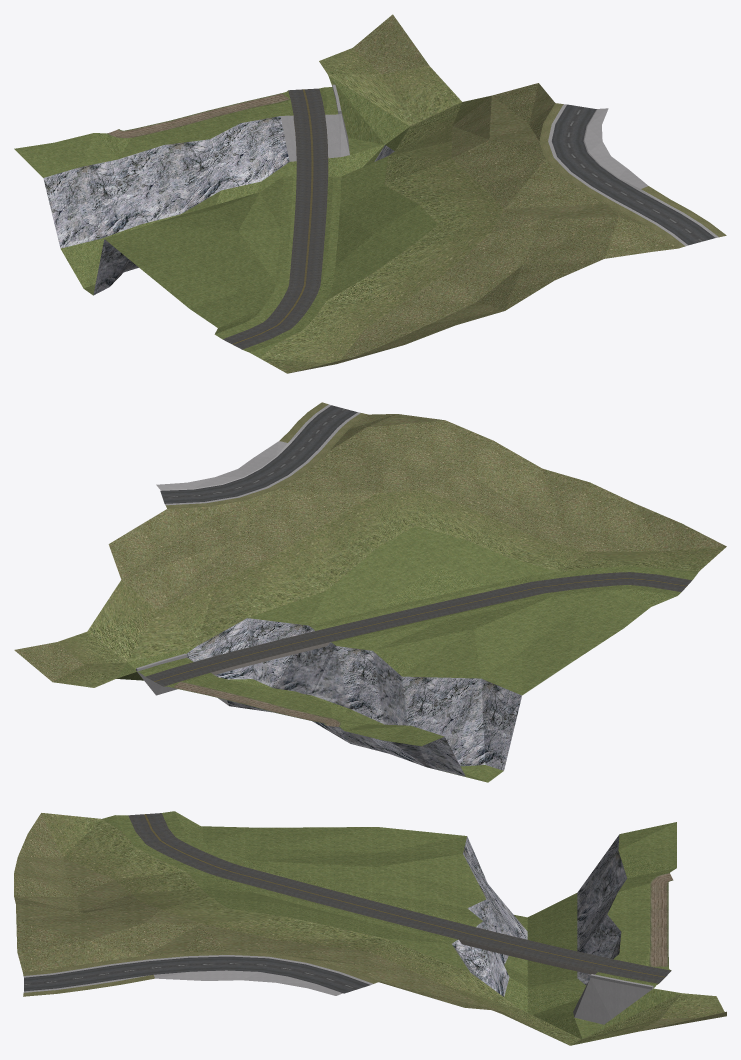
Rendered from sw_bit_06.obj.
3 renders of one model, top to bottom at view 1: azimuth 30°, elevation 25°; view 2: azimuth 150°, elevation 25°; view 3: azimuth 270°, elevation 25°, orthographic. The views are drawn at different scales.
Parts seen in each view (by area): view 1: sw_bit_06; view 2: sw_bit_06; view 3: sw_bit_06.
Boxes of the visible parts, x1,y1,x2,y2 form: sw_bit_06: [14, 14, 726, 373]; sw_bit_06: [14, 402, 726, 782]; sw_bit_06: [14, 811, 726, 1045].
Size of the model in its own units: 206 by 58.88 by 252.
Materials: 10 (10 with a texture image).
